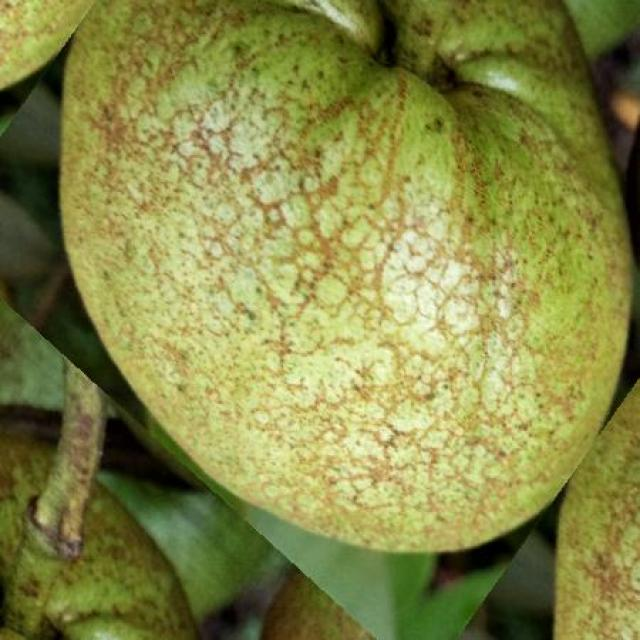Scab: (61, 0, 630, 552), (554, 380, 640, 639)
